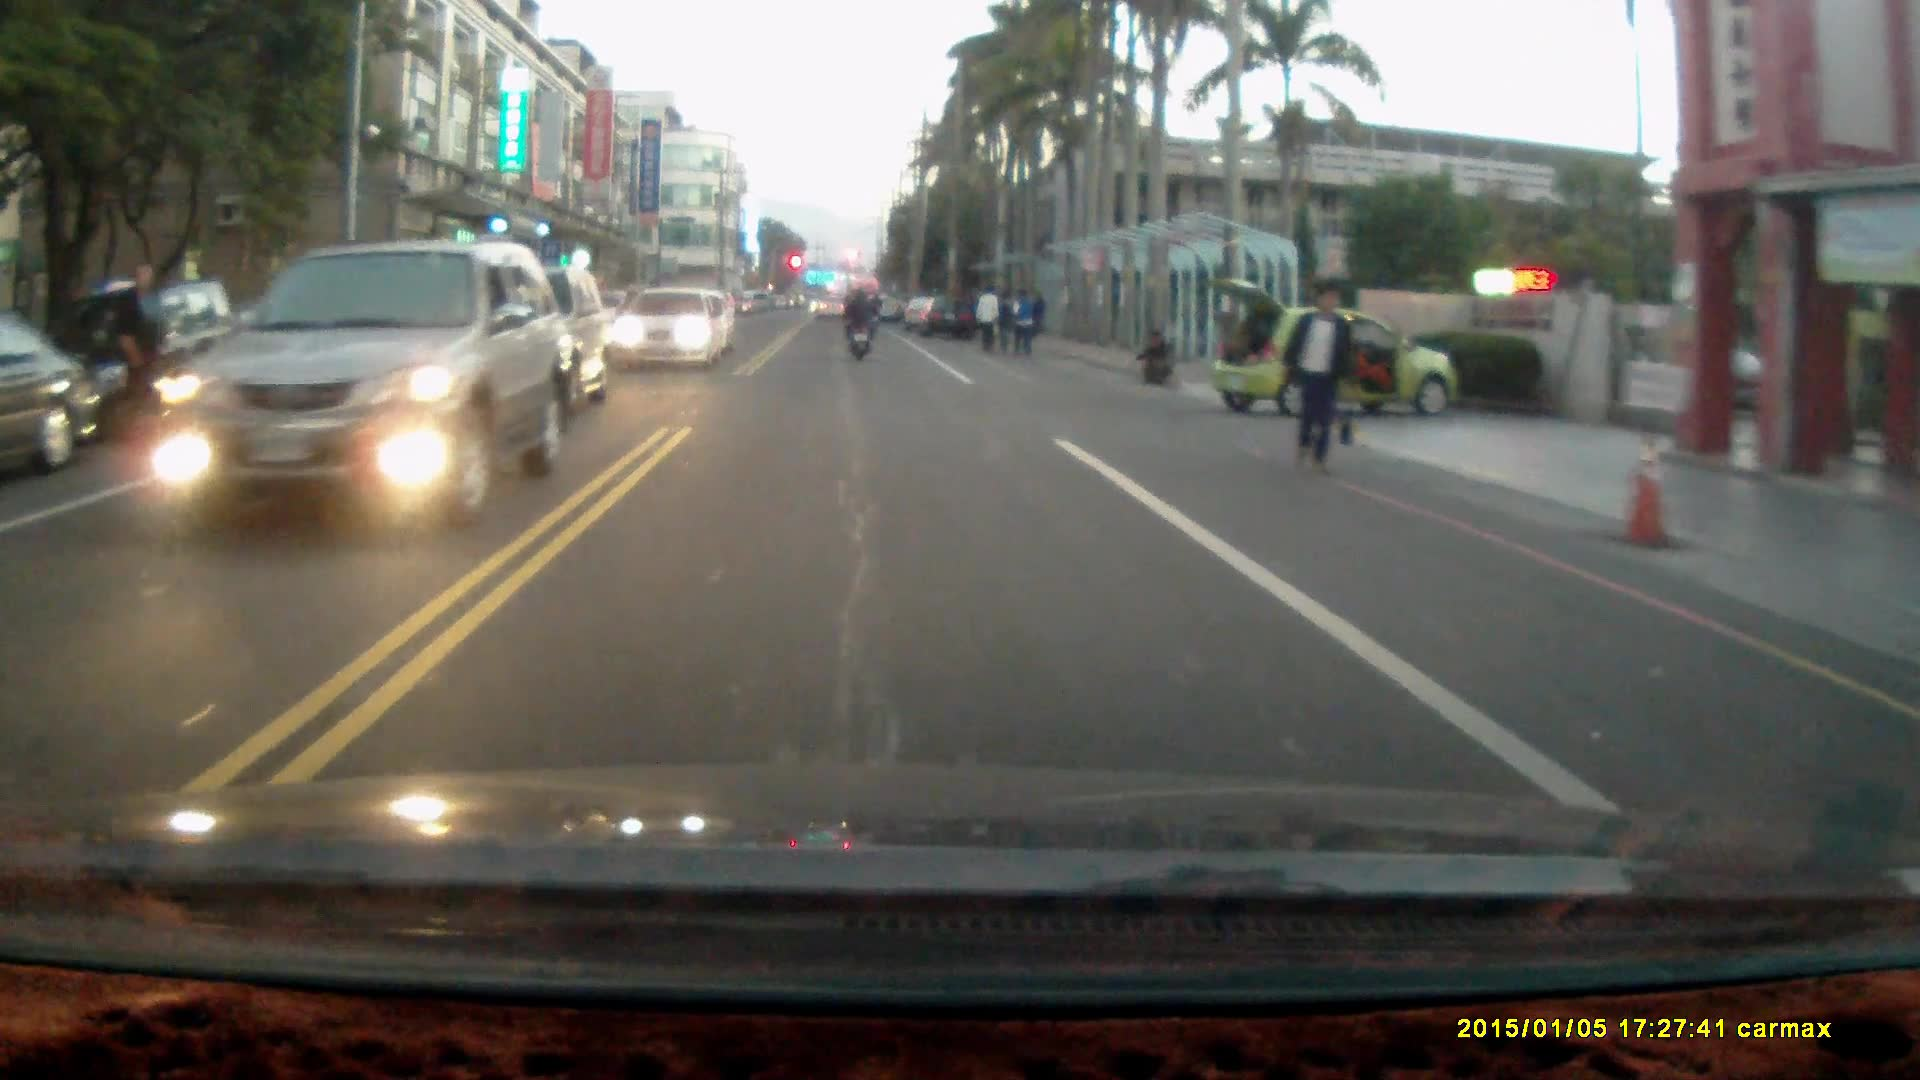pedestrian: (1280, 280, 1356, 485), (1135, 323, 1171, 385), (1010, 282, 1036, 362), (978, 286, 1002, 360), (994, 286, 1016, 354)
rider: (839, 283, 878, 361)
vehicle: (150, 239, 566, 528), (1207, 272, 1465, 417), (405, 261, 618, 420), (617, 284, 729, 368), (924, 294, 979, 339)
